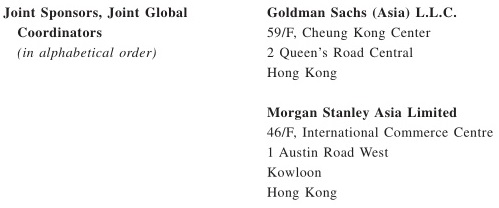column: (265, 1, 495, 207), (2, 1, 189, 208)
row: (1, 105, 499, 120), (1, 26, 499, 40), (1, 45, 499, 59), (1, 145, 499, 159), (1, 66, 497, 80), (1, 165, 499, 178), (1, 186, 499, 199), (1, 125, 498, 138), (1, 6, 498, 18)
